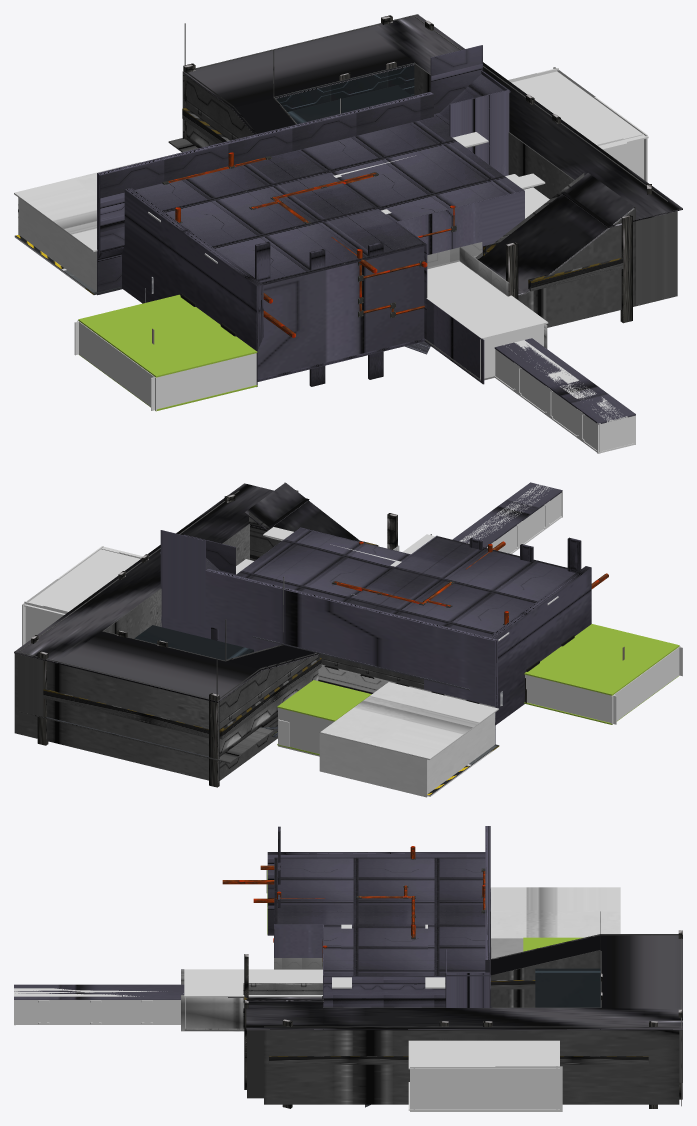
The model's file is Level1_expanded.fbx.
3 renders of one model, top to bottom at view 1: azimuth 30°, elevation 25°; view 2: azimuth 150°, elevation 25°; view 3: azimuth 270°, elevation 25°, orthographic. The views are drawn at different scales.
Visible parts, largest first — view 1: Cube.068, Cube.058, Cube.019, Cube.020, Cube.026, Cube.032, Cube.055, Cube.056, Cube.030, Cube.022, Cube.064, Cube.074 (+20 smaller); view 2: Cube.020, Cube.068, Cube.058, Cube.059, Cube.028, Cube.026, Cube.032, Cube.043, Cube.037, Cube.064, Cube.055, Cube.044 (+19 smaller); view 3: Cube.068, Cube.052, Cube.058, Cube.067, Cube.028, Cube.064, Cube.076, Cube.050, Cube.025, Cube.022, Cube.061, Cube.074 (+12 smaller).
Boxes of the visible parts, left/top/right/bottom form: Cube.068: left=135, top=72, right=523, bottom=284; Cube.058: left=183, top=14, right=682, bottom=227; Cube.019: left=257, top=246, right=424, bottom=381; Cube.020: left=97, top=45, right=482, bottom=295; Cube.026: left=122, top=188, right=263, bottom=386; Cube.032: left=78, top=294, right=257, bottom=377; Cube.055: left=477, top=173, right=634, bottom=294; Cube.056: left=518, top=207, right=635, bottom=327; Cube.030: left=396, top=190, right=524, bottom=269; Cube.022: left=426, top=261, right=548, bottom=339; Cube.064: left=511, top=71, right=648, bottom=149; Cube.074: left=494, top=338, right=635, bottom=424; Cube.020: left=160, top=530, right=497, bottom=744; Cube.068: left=160, top=528, right=575, bottom=636; Cube.058: left=14, top=483, right=319, bottom=702; Cube.059: left=14, top=651, right=219, bottom=782; Cube.028: left=320, top=682, right=498, bottom=759; Cube.026: left=489, top=566, right=591, bottom=724; Cube.032: left=524, top=624, right=679, bottom=695; Cube.043: left=216, top=652, right=318, bottom=780; Cube.037: left=319, top=732, right=427, bottom=797; Cube.064: left=24, top=547, right=142, bottom=615; Cube.055: left=245, top=482, right=360, bottom=541; Cube.044: left=18, top=654, right=273, bottom=763; Cube.068: left=274, top=857, right=489, bottom=976; Cube.052: left=264, top=1026, right=679, bottom=1104; Cube.058: left=246, top=935, right=682, bottom=1030; Cube.067: left=410, top=1066, right=562, bottom=1111; Cube.028: left=490, top=887, right=620, bottom=938; Cube.064: left=408, top=1040, right=559, bottom=1069; Cube.076: left=14, top=1000, right=180, bottom=1024; Cube.050: left=323, top=976, right=492, bottom=1007; Cube.025: left=181, top=983, right=322, bottom=1031; Cube.022: left=184, top=969, right=322, bottom=997; Cube.061: left=535, top=968, right=600, bottom=1007; Cube.074: left=14, top=984, right=184, bottom=999.
Bounding box in the file's own units: 877 × 308 × 1060.
